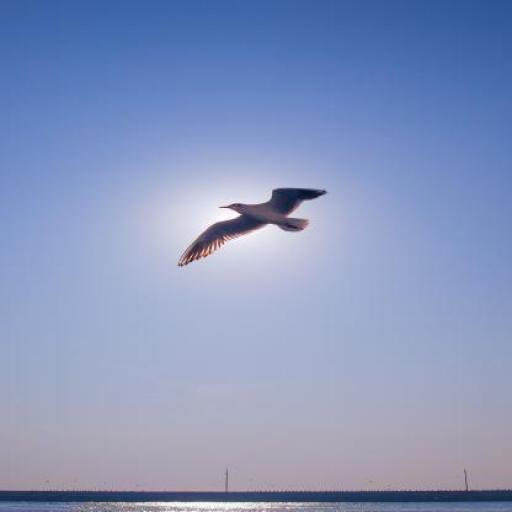bird: (178, 187, 328, 267)
